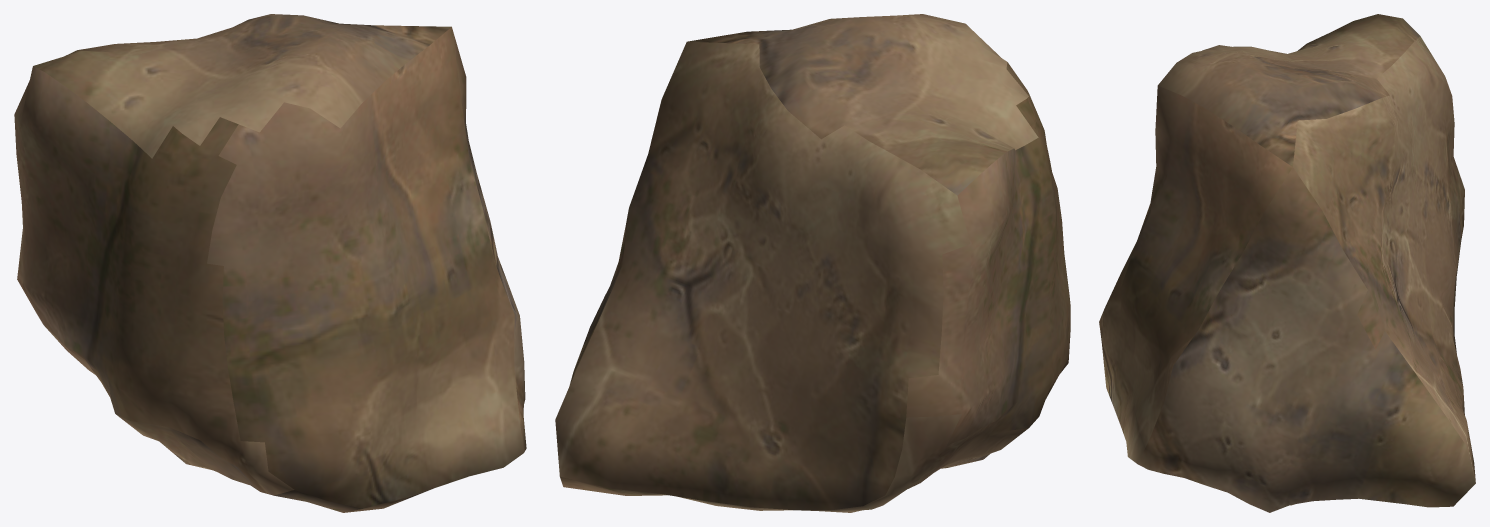
File: Rock-3-tex.fbx
3 views of the same model, side by side, from view 1: azimuth 30°, elevation 25°; view 2: azimuth 150°, elevation 25°; view 3: azimuth 270°, elevation 25° (orthographic). The views are drawn at different scales.
Visible parts, largest first — view 1: rock.006; view 2: rock.006; view 3: rock.006.
Part boxes in pixels (x1,y1,x2,y2): rock.006: (14,14,526,512); rock.006: (555,14,1070,512); rock.006: (1099,14,1475,512).
Bounding box in the file's own units: 114 × 117 × 103.
